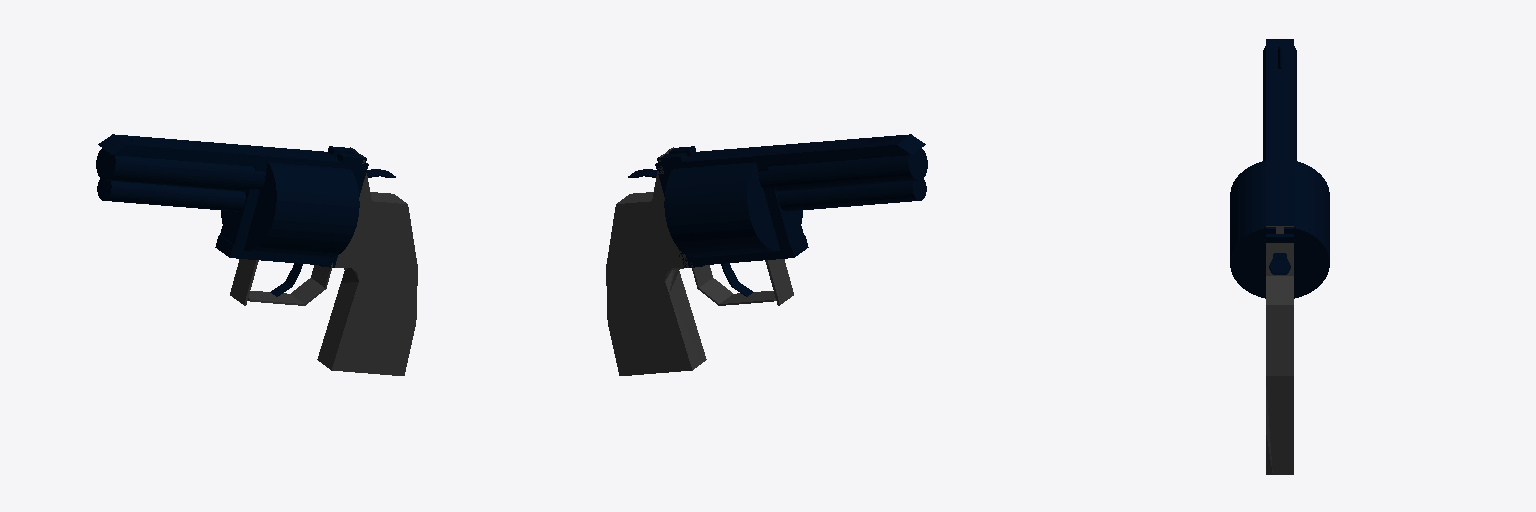
File: revolver0004.obj
3 renders of one model, left to right at view 1: azimuth 30°, elevation 25°; view 2: azimuth 150°, elevation 25°; view 3: azimuth 270°, elevation 25°, orthographic.
Parts seen in each view (by area): view 1: Cube, bulletCylinder, upperFrame, barrel, cleaningRod, Cube.002, Cube.001; view 2: Cube, bulletCylinder, upperFrame, barrel, cleaningRod, Cube.002, Cube.001; view 3: bulletCylinder, Cube, upperFrame, barrel, Cube.003.
Part boxes in pixels (x1,y1,x2,y2): Cube: (230,147,417,375); bulletCylinder: (221,162,359,257); upperFrame: (98,134,368,267); barrel: (96,148,265,191); cleaningRod: (97,178,245,211); Cube.002: (220,158,273,252); Cube.001: (215,235,322,264); Cube: (606,147,793,375); bulletCylinder: (664,162,802,257); upperFrame: (655,134,925,267); barrel: (758,148,927,191); cleaningRod: (778,178,926,211); Cube.002: (748,158,803,252); Cube.001: (679,235,808,265); bulletCylinder: (1230,161,1329,298); Cube: (1266,226,1293,474); upperFrame: (1266,39,1293,242); barrel: (1263,46,1296,160); Cube.003: (1266,210,1293,233).
Bounding box in the file's own units: 4.99 × 4.6 × 1.4.